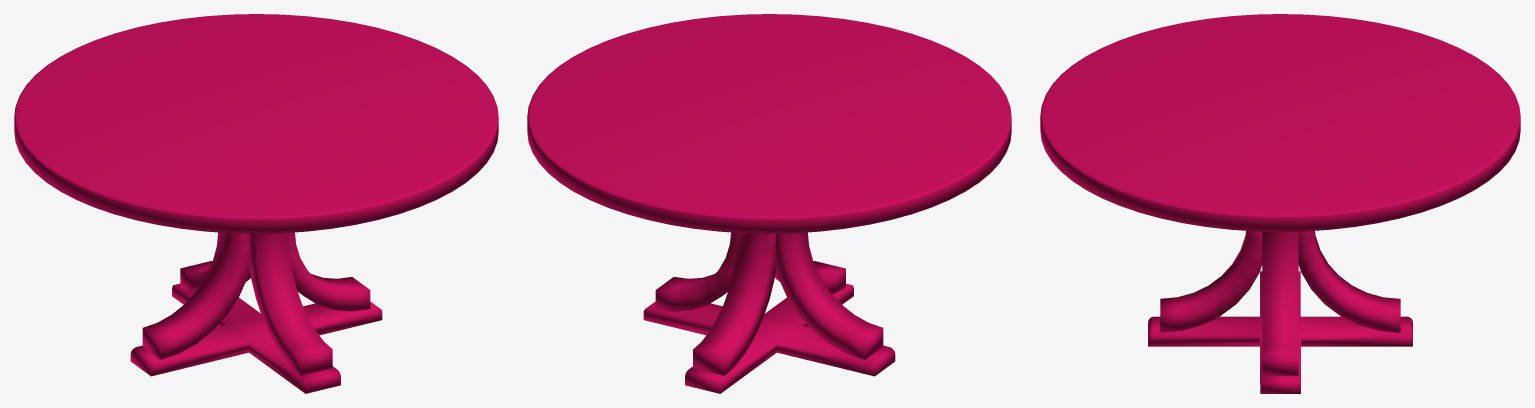
File: DiningTable.dae
3 views of the same model, side by side, from view 1: azimuth 30°, elevation 25°; view 2: azimuth 150°, elevation 25°; view 3: azimuth 270°, elevation 25° (orthographic).
Visible parts, largest first — view 1: Cylindre_lp.002; view 2: Cylindre_lp.002; view 3: Cylindre_lp.002.
Boxes of the visible parts, <box> form: Cylindre_lp.002: <box>14,14,498,393</box>; Cylindre_lp.002: <box>527,14,1011,393</box>; Cylindre_lp.002: <box>1040,14,1520,393</box>.
Bounding box in the file's own units: 2 × 2 × 1.03.
